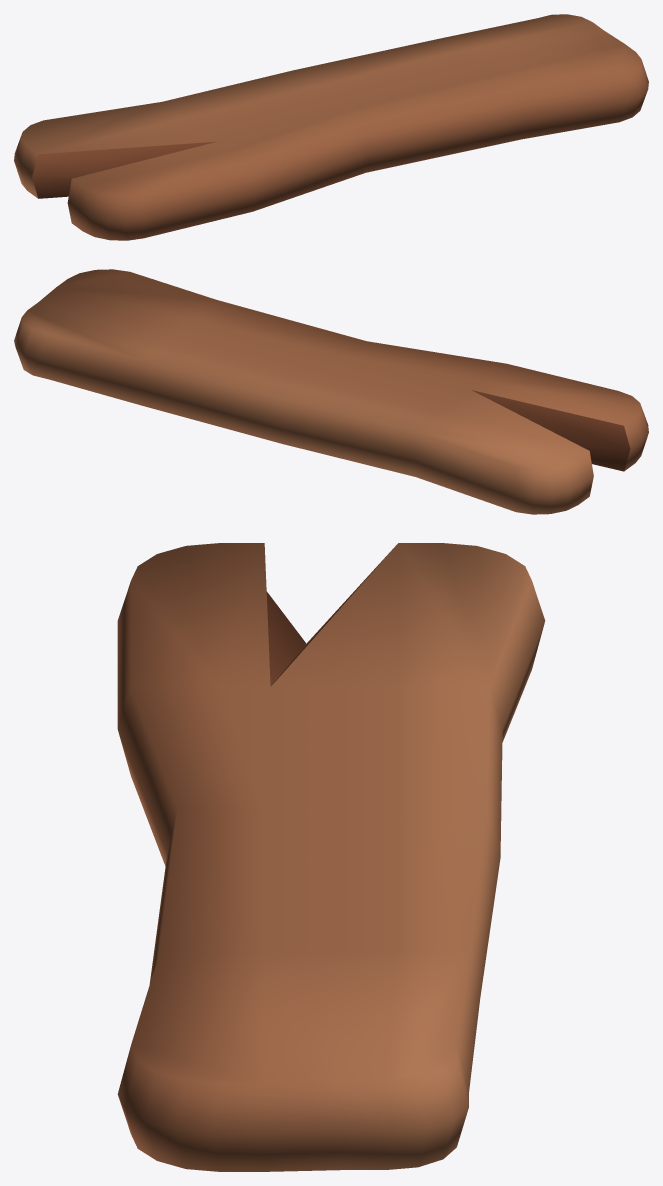
Rendered from Wood_01.fbx.
The picture shows the model from 3 angles, top to bottom: view 1: azimuth 30°, elevation 25°; view 2: azimuth 150°, elevation 25°; view 3: azimuth 270°, elevation 25°; orthographic projection. The views are drawn at different scales.
Parts seen in each view (by area): view 1: Wood_01; view 2: Wood_01; view 3: Wood_01.
Part boxes in pixels (x1=…): Wood_01: x1=14, y1=14, x2=648, y2=240; Wood_01: x1=14, y1=269, x2=648, y2=514; Wood_01: x1=117, y1=543, x2=545, y2=1171.
Size of the model in its own units: 251 by 19.02 by 82.6.
